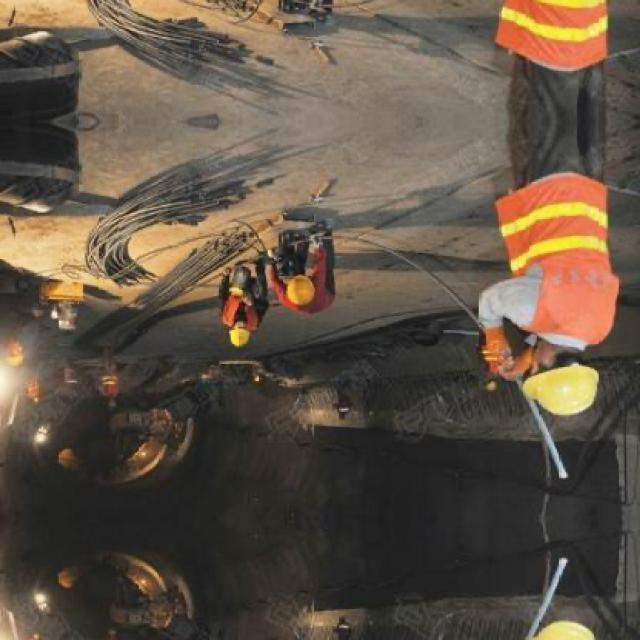con casco: (515, 289, 640, 429), (186, 212, 333, 318), (195, 276, 278, 364)
